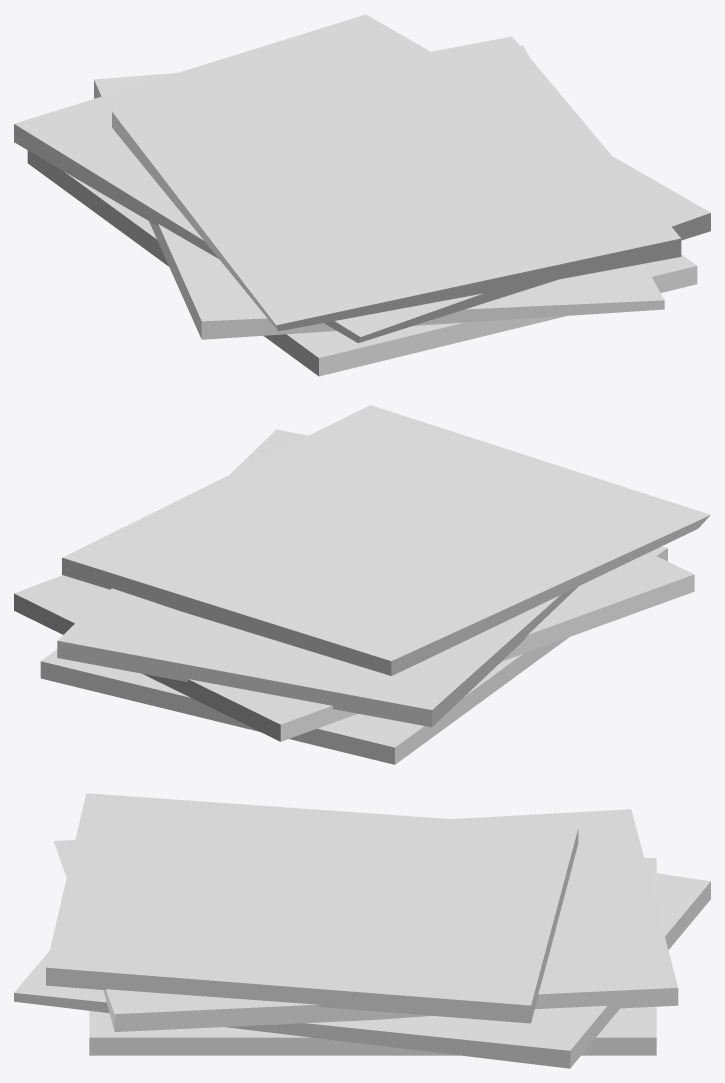
Rendered from Papel2.obj.
3 views of the same model, one above another, from view 1: azimuth 30°, elevation 25°; view 2: azimuth 150°, elevation 25°; view 3: azimuth 270°, elevation 25° (orthographic). The views are drawn at different scales.
Parts seen in each view (by area): view 1: Paper2; view 2: Paper2; view 3: Paper2.
Boxes of the visible parts, bbox=[...] form: Paper2: bbox=[14, 14, 710, 376]; Paper2: bbox=[14, 405, 710, 764]; Paper2: bbox=[14, 793, 710, 1068].
Size of the model in its own units: 0.5739 by 0.0749 by 0.6791.
1 material, 1 textured.
